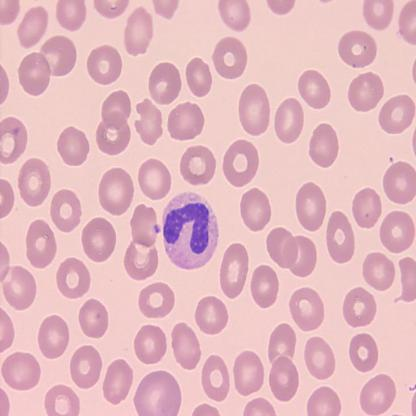Band Neutrophil: (159, 189, 221, 273)
